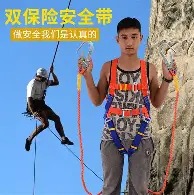safety belt: (103, 60, 153, 160)
